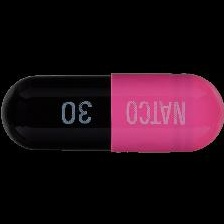68788-9406: (0, 0, 224, 224)
